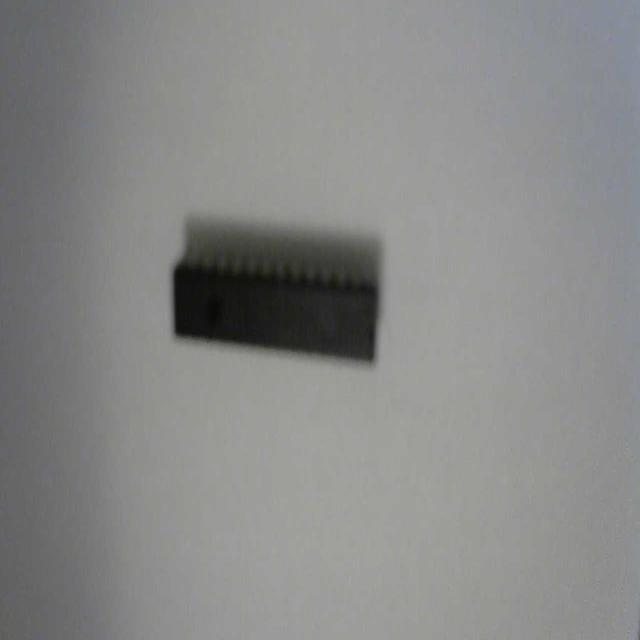atmega: (170, 212, 384, 369)
